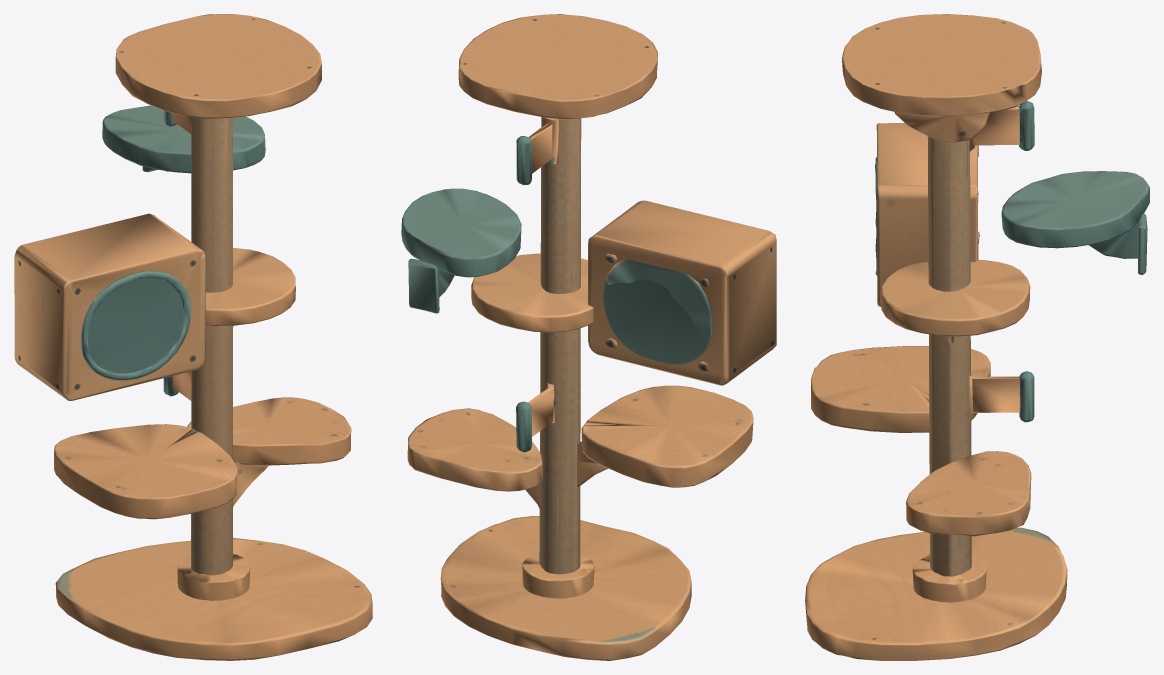
Rendered from climbing-tower.glb.
3 views of the same model, side by side, from view 1: azimuth 30°, elevation 25°; view 2: azimuth 150°, elevation 25°; view 3: azimuth 270°, elevation 25° (orthographic).
Parts seen in each view (by area): view 1: Mesh_0; view 2: Mesh_0; view 3: Mesh_0.
Part boxes in pixels (left/top/right/bottom): Mesh_0: left=14, top=14, right=372, bottom=660; Mesh_0: left=401, top=14, right=776, bottom=660; Mesh_0: left=805, top=14, right=1149, bottom=660.
Size of the model in its own units: 0.9141 by 1.5 by 0.8525.
Materials: 1 (1 with a texture image).
